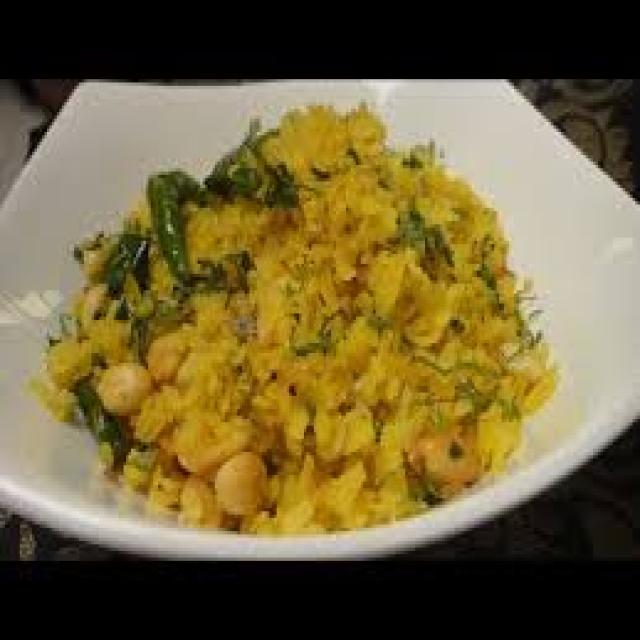POHA: (48, 100, 550, 533)
